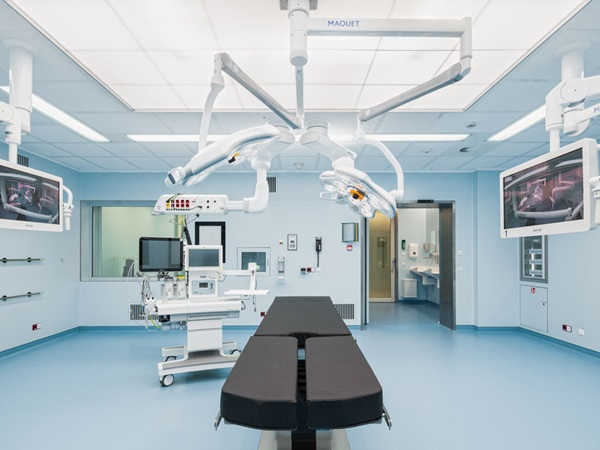bedside_monitor: (499, 137, 600, 239), (1, 160, 62, 232), (139, 237, 183, 271), (237, 247, 272, 278), (184, 245, 223, 271)
cabinet: (520, 230, 544, 283)
handle: (1, 292, 40, 301), (1, 257, 40, 263)
operating_bed: (213, 296, 392, 450)
sink: (411, 266, 439, 288)
surgical_light: (160, 117, 287, 192), (316, 165, 399, 221)
